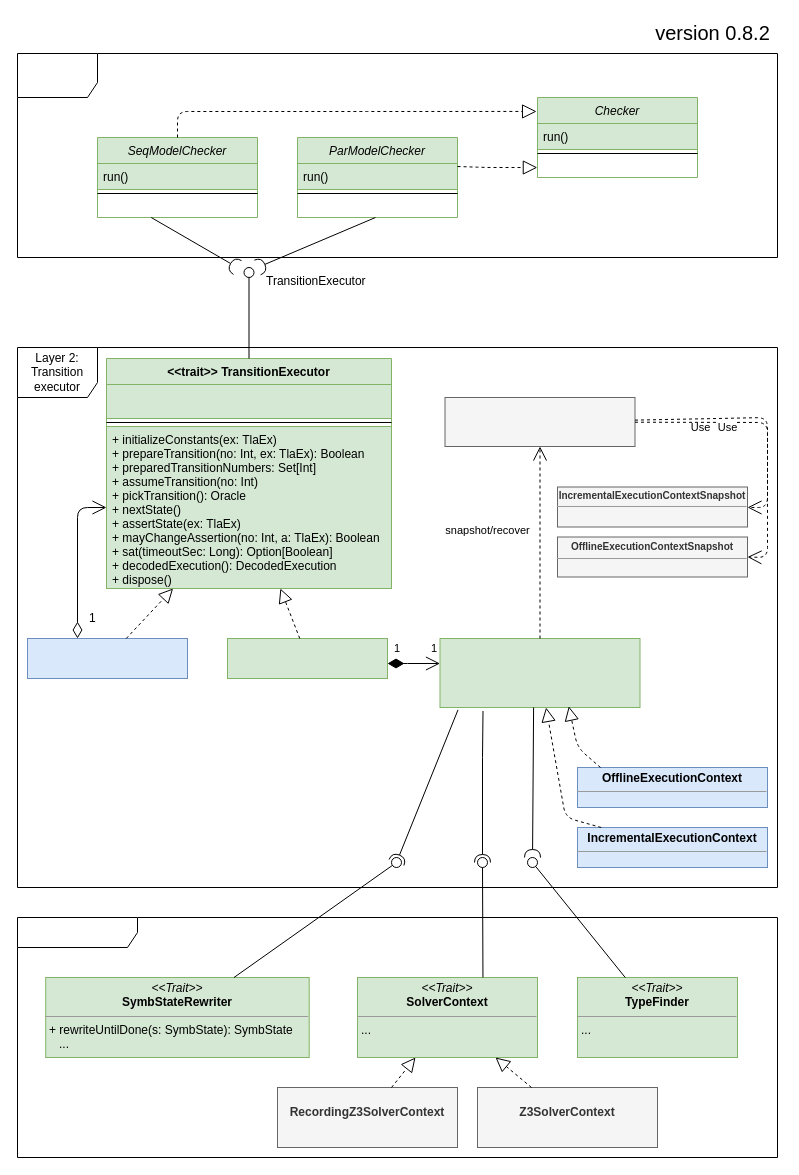
Some shapes in this 799 by 1175 pixel diagram are drawn without their labels. Each missing label, with the centre of its shape:
+ stepNo: Int + execution: EncodedExecution: the point at 249,401
<<Trait>> Execution Context[T] + snapshot(): T + recover(snapshot: T): unit: the point at 539,673
<<Trait>> ExecutionSnapshot[T]: the point at 539,421
Filtered TransitionExecutorImpl[T]: the point at 107,658
Layer 1: Checker: the point at 397,155
Layer 3: TLAEx to SMT: the point at 397,1037
TransitionExecutorImpl[T]: the point at 307,658
